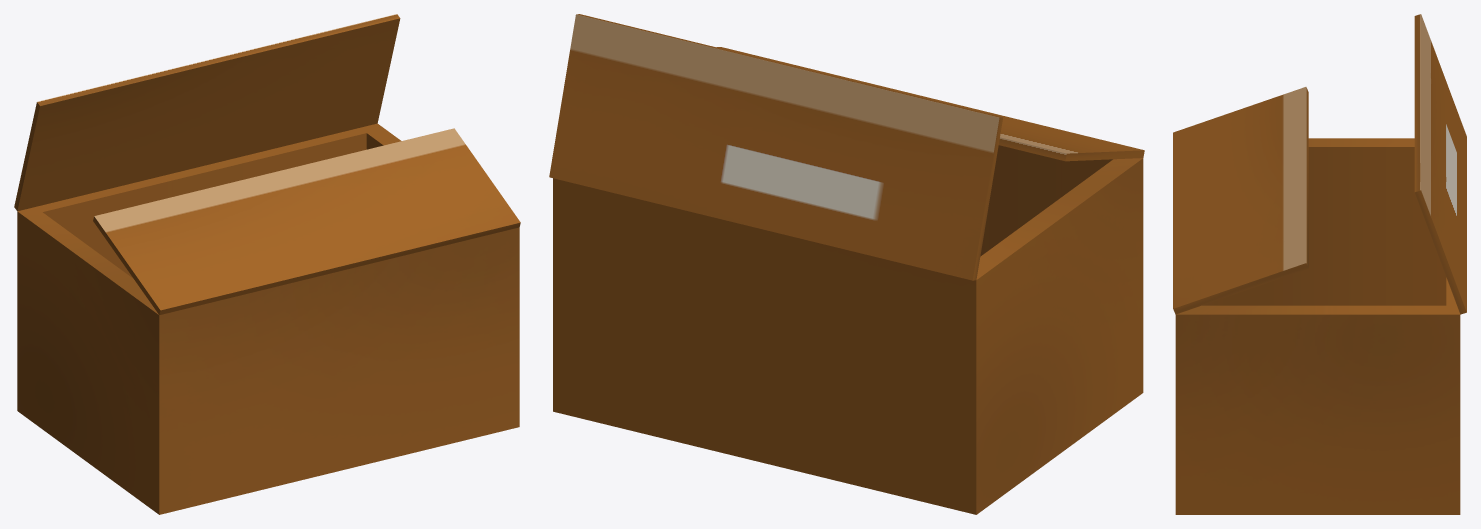
Rendered from Package3.fbx.
The picture shows the model from 3 angles, left to right: view 1: azimuth 30°, elevation 25°; view 2: azimuth 150°, elevation 25°; view 3: azimuth 270°, elevation 25°; orthographic projection. The views are drawn at different scales.
Visible parts, largest first — view 1: package_5, package_6, package_7; view 2: package_5, package_7, package_6; view 3: package_5, package_6, package_7.
Boxes of the visible parts, <box> form: package_5: <box>17,123,519,514</box>; package_6: <box>93,128,520,315</box>; package_7: <box>14,14,400,211</box>; package_5: <box>553,145,1143,514</box>; package_7: <box>549,14,1003,280</box>; package_6: <box>717,47,1144,161</box>; package_5: <box>1175,138,1460,514</box>; package_6: <box>1173,87,1308,314</box>; package_7: <box>1414,14,1466,314</box>.
Size of the model in its own units: 8.59 by 7.37 by 6.04.
Materials: 1 (1 with a texture image).
